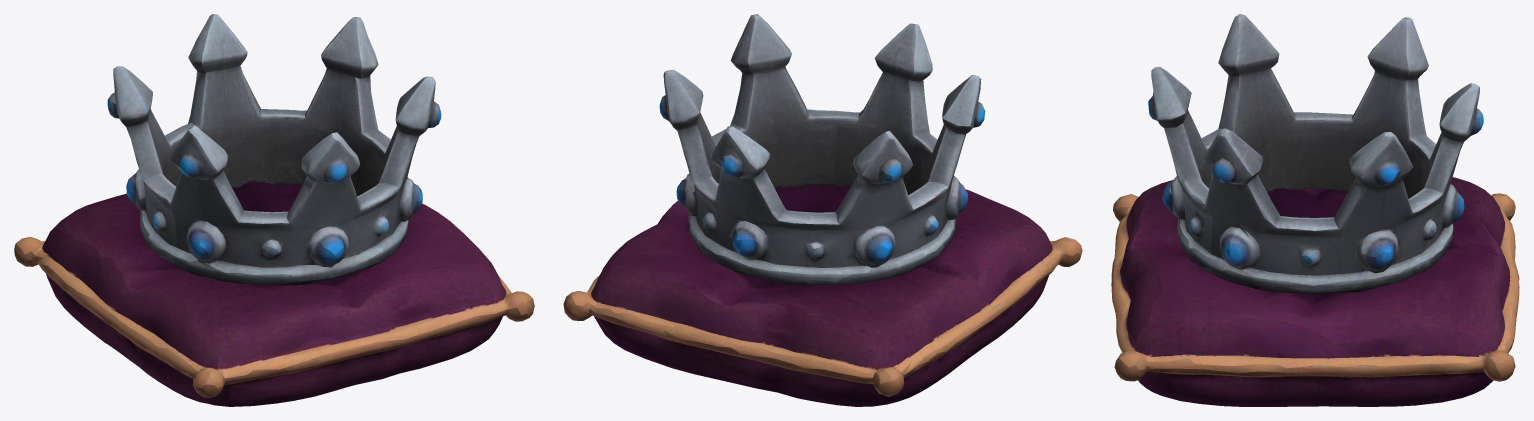
Rendered from a-spiked-dark-iron-crown-with-bl-57fef0.glb.
3 renders of one model, left to right at view 1: azimuth 30°, elevation 25°; view 2: azimuth 150°, elevation 25°; view 3: azimuth 270°, elevation 25°, orthographic. The views are drawn at different scales.
Parts seen in each view (by area): view 1: geometry_0; view 2: geometry_0; view 3: geometry_0.
Part boxes in pixels (x1=…): geometry_0: x1=14, y1=14, x2=534, y2=406; geometry_0: x1=563, y1=14, x2=1082, y2=406; geometry_0: x1=1111, y1=14, x2=1519, y2=406.
Size of the model in its own units: 0.9989 by 0.7183 by 1.
1 material, 1 textured.
